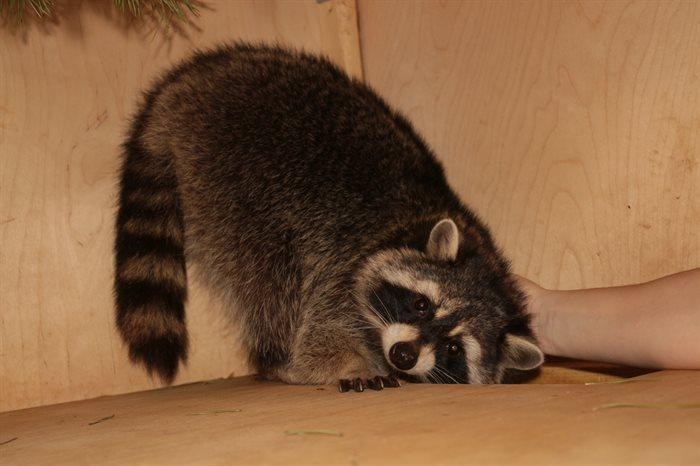raccoon: (118, 39, 547, 391)
